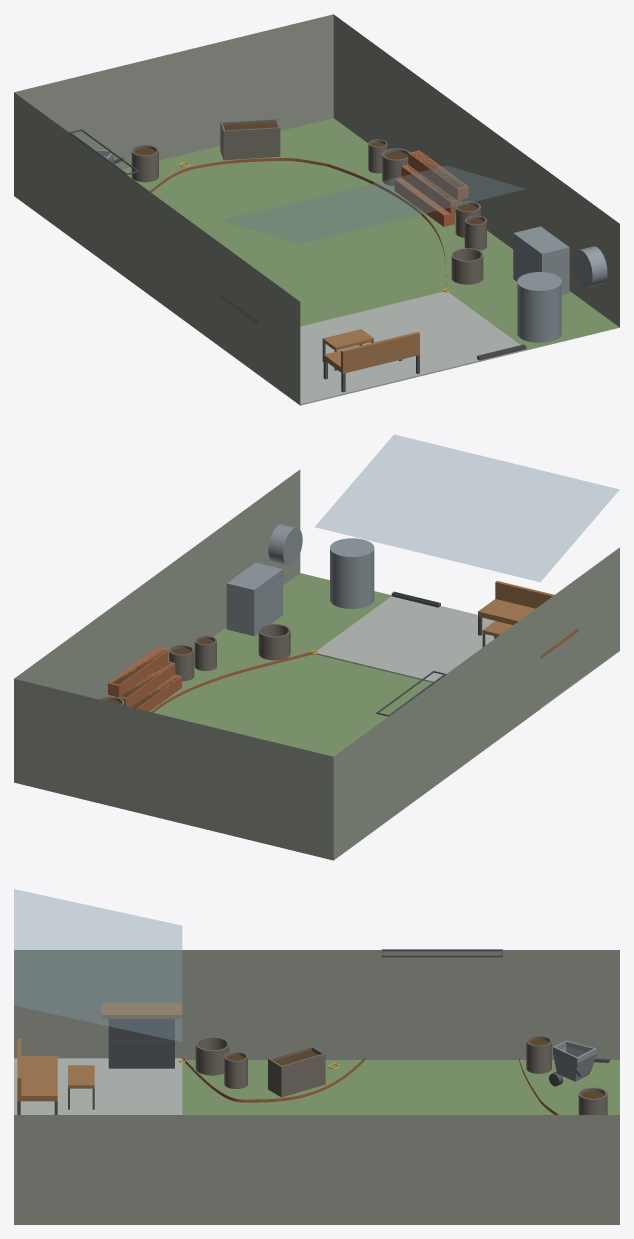
Rendered from garden_v0_15_3d_model.glb.
The picture shows the model from 3 angles, top to bottom: view 1: azimuth 30°, elevation 25°; view 2: azimuth 150°, elevation 25°; view 3: azimuth 270°, elevation 25°; orthographic projection. The views are drawn at different scales.
Parts seen in each view (by area): view 1: EXISTING__GROUND_DATUM, EXISTING__FENCE_LEFT, EXISTING__FENCE_REAR, EXISTING__FENCE_RIGHT, EXISTING__PATIO, EXISTING__PATIO_ROOF_APPROX, V010_R5_APPROVED__WF__WORM, V010_R5_APPROVED__AC__AC, V010_R10_2_PART__T1__TROUGH_1__TROUGH_WALL_FRONT, V010_R10_2_PART__LS__LOUNGE__BACK, V010_R10_2_PART__3T__BED__TIER_3, V010_R5_APPROVED__HR__HOSE (+9 smaller); view 2: EXISTING__FENCE_REAR, EXISTING__FENCE_LEFT, EXISTING__PATIO_ROOF_APPROX, EXISTING__GROUND_DATUM, EXISTING__FENCE_RIGHT, EXISTING__PATIO, V010_R5_APPROVED__AC__AC, V010_R5_APPROVED__WF__WORM, V010_R5_APPROVED__HR__HOSE, V010_R10_2_PART__3T__BED__TIER_3, V010_R10_2_PART__G2__G2__OPEN_BOTTOM_RING, V010_R10_2_PART__LS__LOUNGE__BACK (+6 smaller); view 3: EXISTING__FENCE_RIGHT, EXISTING__FENCE_LEFT, EXISTING__PATIO_ROOF_APPROX, EXISTING__GROUND_DATUM, EXISTING__PATIO, V010_R10_2_PART__WK__WORK__CABINET, V010_R10_2_PART__LS__LOUNGE__SEAT, V010_R10_2_PART__T2__TROUGH_2__TROUGH_WALL_FRONT, V010_R10_2_PART__WK__WORK__WORKTOP, V010_R10_2_PART__G1__G1__OPEN_BOTTOM_RING, V010_R10_2_PART__P5__PLANTER_5__CONTAINER, V010_R10_2_PART__WB__WHEEL__TRAY (+6 smaller).
Part boxes in pixels (bbox=[...]): EXISTING__GROUND_DATUM: bbox=[122, 118, 619, 350]; EXISTING__FENCE_LEFT: bbox=[14, 92, 300, 405]; EXISTING__FENCE_REAR: bbox=[14, 14, 333, 169]; EXISTING__FENCE_RIGHT: bbox=[333, 14, 619, 327]; EXISTING__PATIO: bbox=[222, 291, 526, 405]; EXISTING__PATIO_ROOF_APPROX: bbox=[222, 165, 524, 243]; V010_R5_APPROVED__WF__WORM: bbox=[517, 272, 561, 342]; V010_R5_APPROVED__AC__AC: bbox=[513, 226, 569, 295]; V010_R10_2_PART__T1__TROUGH_1__TROUGH_WALL_FRONT: bbox=[225, 127, 278, 159]; V010_R10_2_PART__LS__LOUNGE__BACK: bbox=[341, 332, 419, 368]; V010_R10_2_PART__3T__BED__TIER_3: bbox=[408, 150, 468, 200]; V010_R5_APPROVED__HR__HOSE: bbox=[573, 246, 607, 287]; EXISTING__FENCE_REAR: bbox=[14, 679, 333, 860]; EXISTING__FENCE_LEFT: bbox=[333, 547, 619, 859]; EXISTING__PATIO_ROOF_APPROX: bbox=[315, 434, 619, 581]; EXISTING__GROUND_DATUM: bbox=[149, 573, 431, 756]; EXISTING__FENCE_RIGHT: bbox=[14, 469, 300, 699]; EXISTING__PATIO: bbox=[315, 596, 619, 708]; V010_R5_APPROVED__AC__AC: bbox=[226, 562, 282, 635]; V010_R5_APPROVED__WF__WORM: bbox=[330, 538, 374, 608]; V010_R5_APPROVED__HR__HOSE: bbox=[268, 524, 302, 565]; V010_R10_2_PART__3T__BED__TIER_3: bbox=[108, 647, 168, 697]; V010_R10_2_PART__G2__G2__OPEN_BOTTOM_RING: bbox=[258, 624, 290, 660]; V010_R10_2_PART__LS__LOUNGE__BACK: bbox=[495, 581, 554, 608]; EXISTING__FENCE_RIGHT: bbox=[14, 1115, 619, 1224]; EXISTING__FENCE_LEFT: bbox=[14, 950, 619, 1059]; EXISTING__PATIO_ROOF_APPROX: bbox=[14, 889, 181, 1041]; EXISTING__GROUND_DATUM: bbox=[182, 1060, 619, 1114]; EXISTING__PATIO: bbox=[14, 1058, 182, 1114]; V010_R10_2_PART__WK__WORK__CABINET: bbox=[108, 1018, 174, 1068]; V010_R10_2_PART__LS__LOUNGE__SEAT: bbox=[17, 1056, 57, 1101]; V010_R10_2_PART__T2__TROUGH_2__TROUGH_WALL_FRONT: bbox=[282, 1054, 323, 1096]; V010_R10_2_PART__WK__WORK__WORKTOP: bbox=[101, 1003, 182, 1018]; V010_R10_2_PART__G1__G1__OPEN_BOTTOM_RING: bbox=[195, 1037, 229, 1075]; V010_R10_2_PART__P5__PLANTER_5__CONTAINER: bbox=[526, 1035, 551, 1073]; V010_R10_2_PART__WB__WHEEL__TRAY: bbox=[553, 1046, 596, 1081].
Size of the model in its own units: 5.8 by 2.8 by 9.
